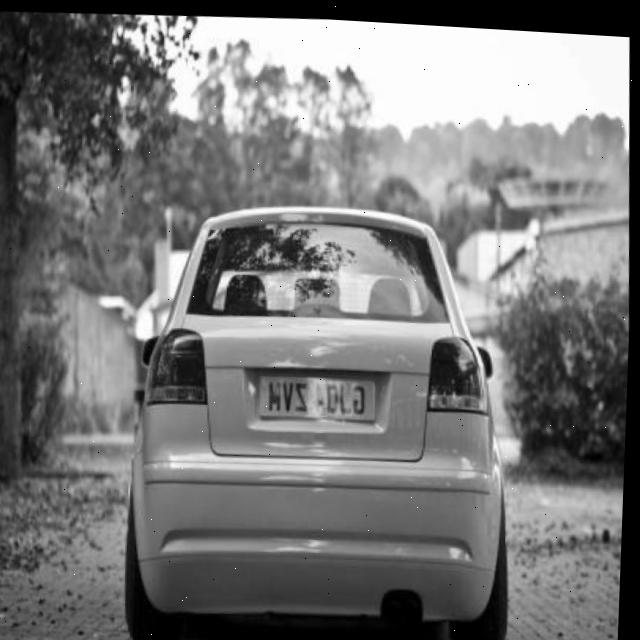car: (107, 183, 528, 640), (259, 363, 382, 420)
